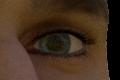eye: (40, 33, 71, 54)
